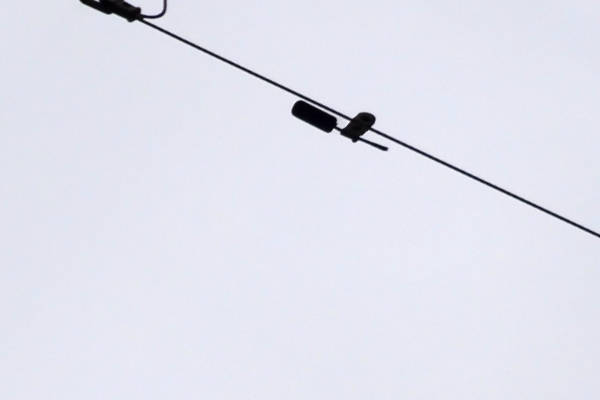damper_defect: (288, 97, 392, 155)
